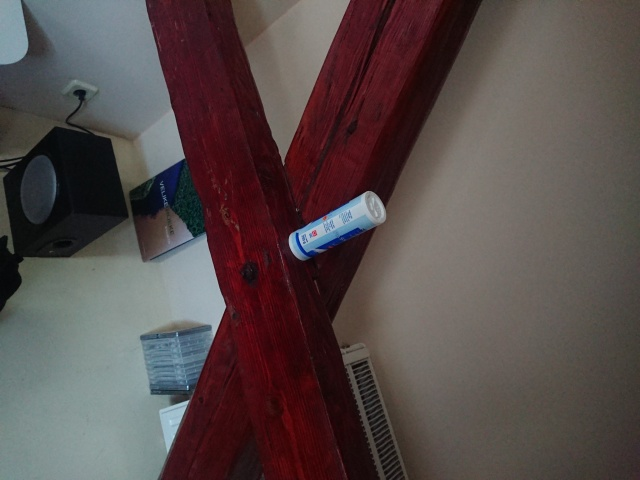Solana Pag Fine Sea Salt 250g: (285, 187, 389, 263)
